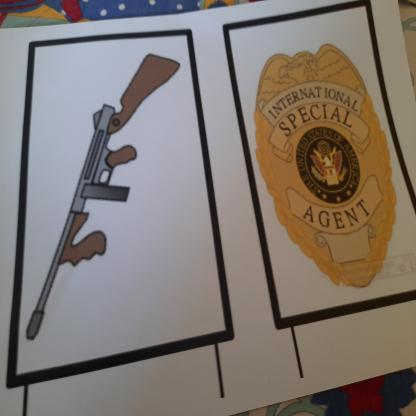Bootlegger: (22, 41, 186, 354)
G-man: (243, 33, 403, 309)
